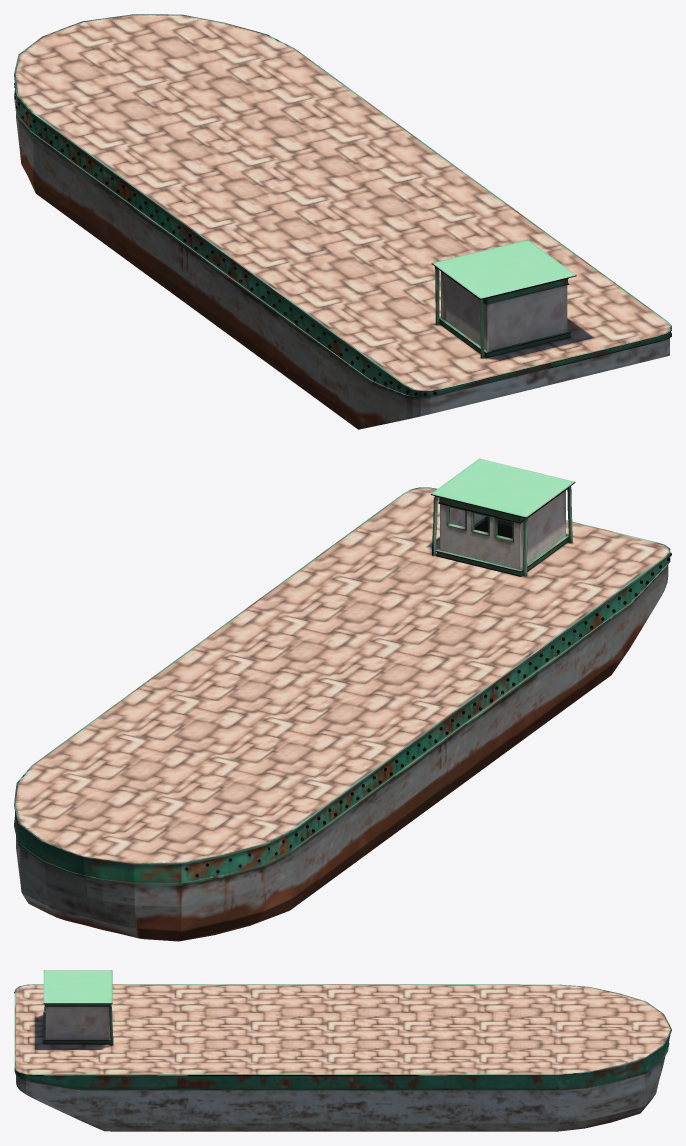
The model's file is Gamejam_BoatSimple_Small_wCombinedPass.glb.
3 views of the same model, one above another, from view 1: azimuth 30°, elevation 25°; view 2: azimuth 150°, elevation 25°; view 3: azimuth 270°, elevation 25° (orthographic). The views are drawn at different scales.
Visible parts, largest first — view 1: Bake; view 2: Bake; view 3: Bake.
Boxes of the visible parts, x1,y1,x2,y2 form: Bake: (14,14,671,429); Bake: (14,458,671,941); Bake: (14,970,671,1131).
Size of the model in its own units: 0.9718 by 0.555 by 2.98.
1 material, 1 textured.
